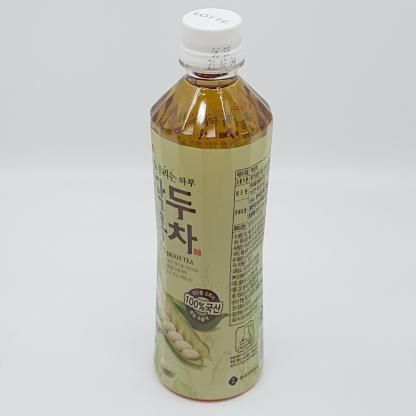--------------500ML: (150, 8, 273, 401)
